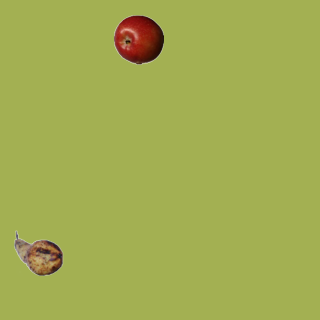Apple Braeburn: (113, 14, 163, 64)
Pear Abate: (13, 228, 63, 278)
